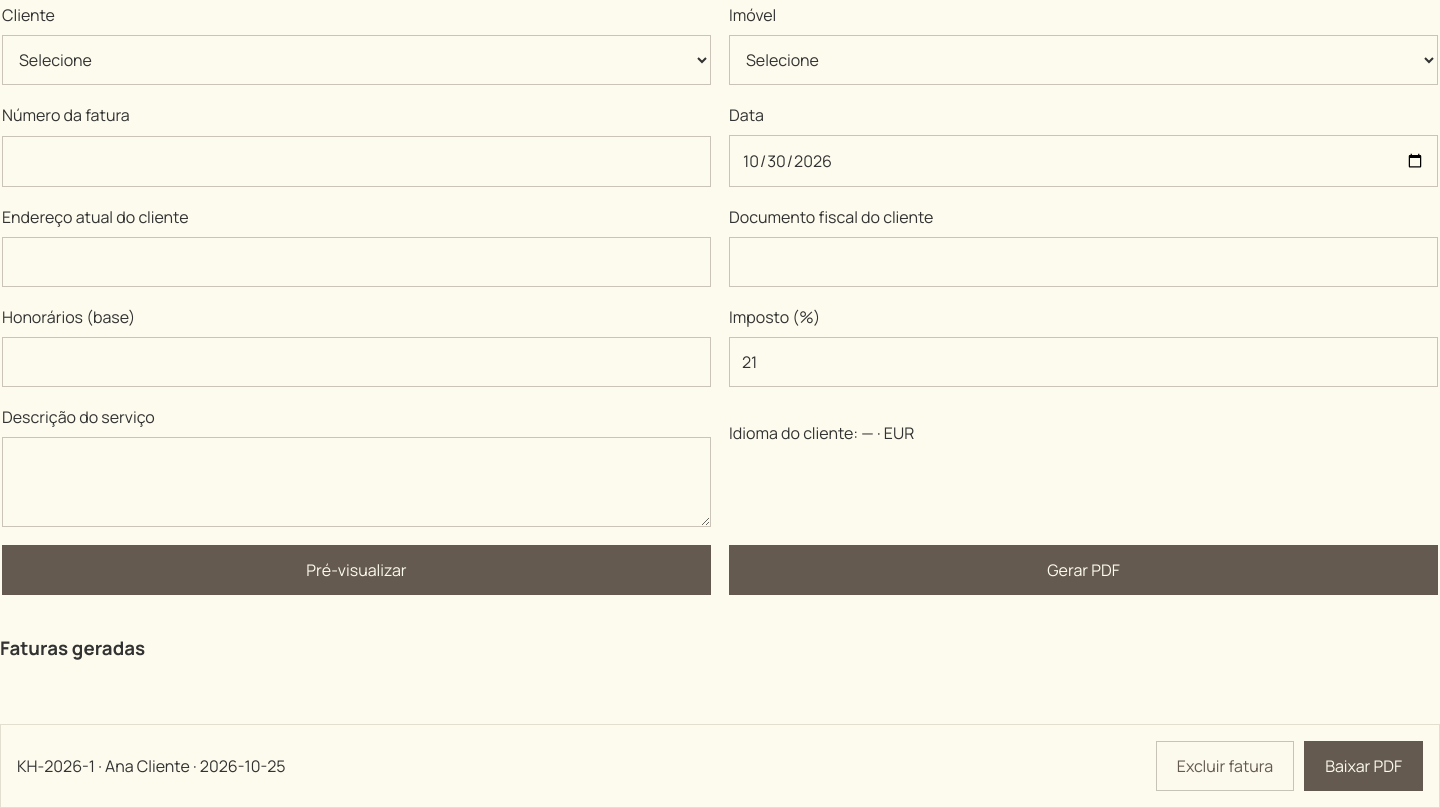
confirms invoice deletion and removes it from local history
The image size is (1440, 808).
(page scrolled)
Expected: the text "KH-2026-1 · Ana Cliente · 2026-10-25" is shown, [17,754,286,778]
Click the button "Excluir fatura". click: (1225, 766)
box: [1156,741,1294,791]
(page scrolled)
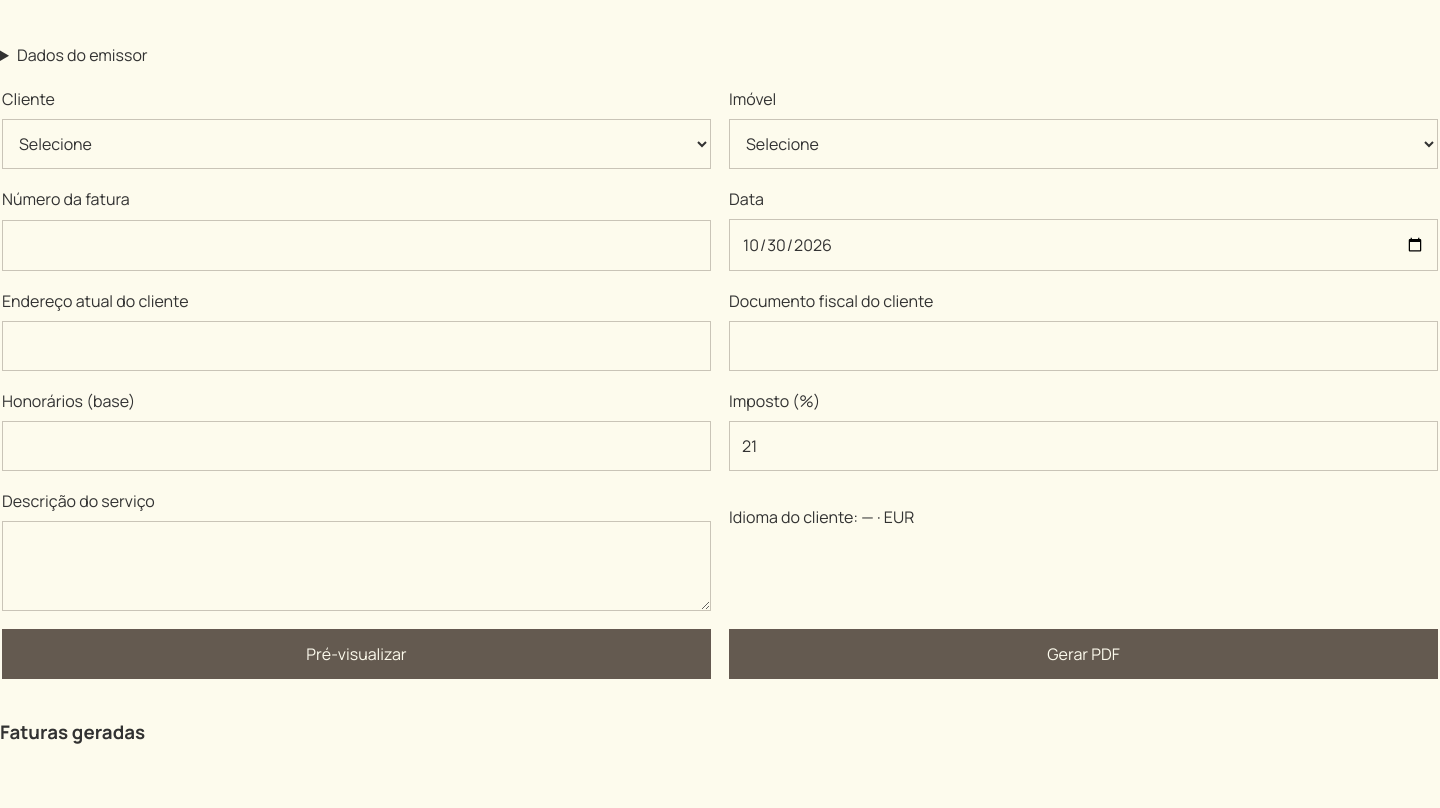
Expected: the text "KH-2026-1" is gone
